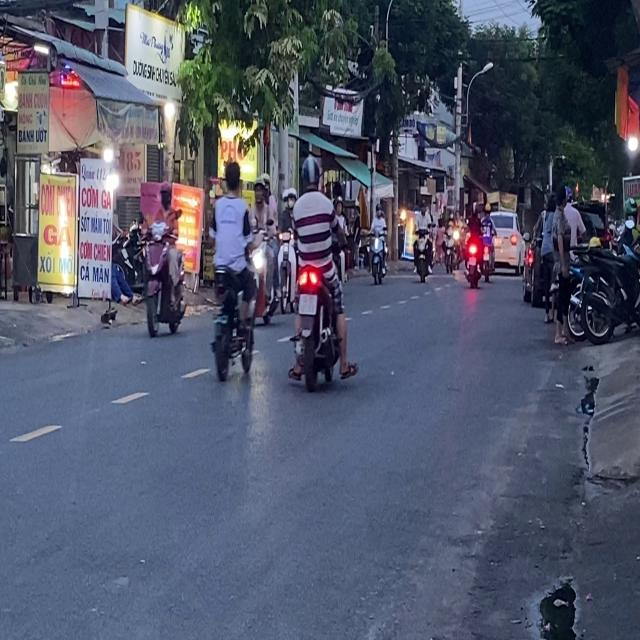helmet: (300, 154, 321, 191), (253, 172, 270, 202), (158, 182, 172, 208)
licenseplate: (287, 152, 353, 391), (207, 157, 258, 383), (141, 180, 187, 338)
motorcyclist: (222, 158, 241, 194)
nohelmet: (298, 294, 317, 314)
